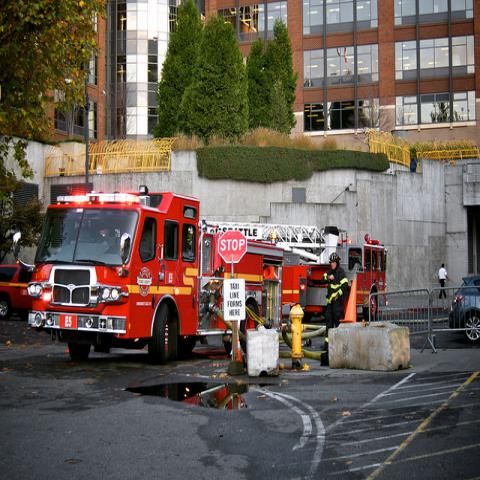car: (447, 278, 479, 343), (0, 260, 29, 319)
truck: (30, 188, 324, 366), (282, 233, 389, 327)
